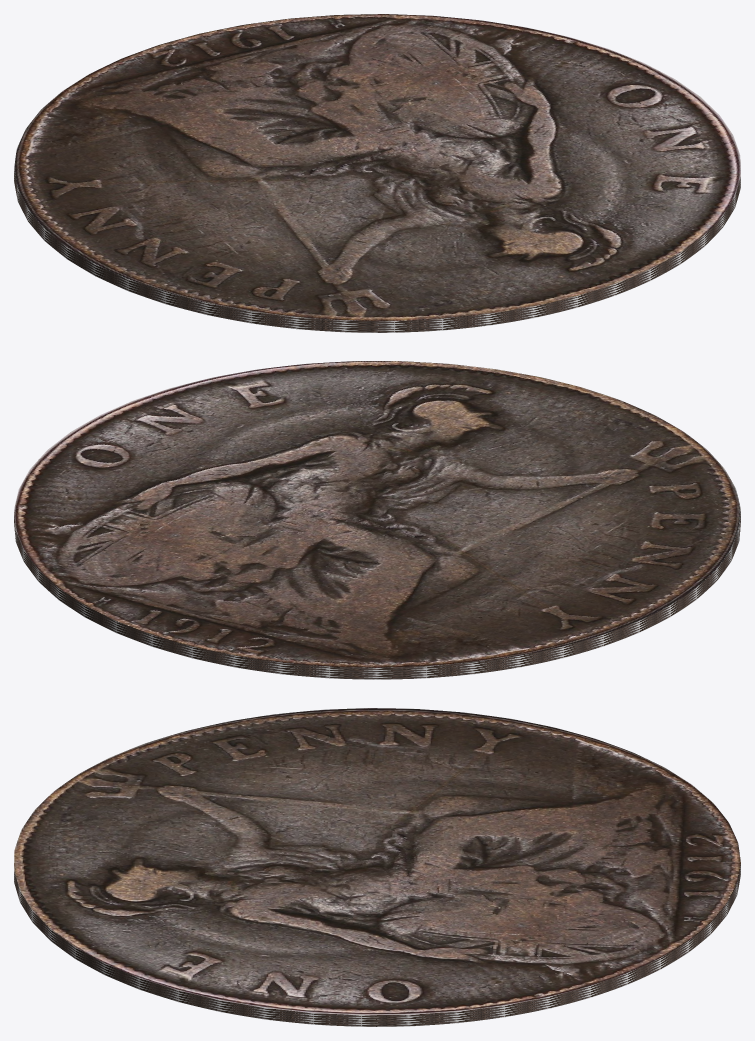
File: british_coin.fbx
The picture shows the model from 3 angles, top to bottom: view 1: azimuth 30°, elevation 25°; view 2: azimuth 150°, elevation 25°; view 3: azimuth 270°, elevation 25°; orthographic projection.
Parts seen in each view (by area): view 1: Cylinder001; view 2: Cylinder001; view 3: Cylinder001.
Part boxes in pixels (left/top/right/bottom): Cylinder001: left=14, top=14, right=740, bottom=332; Cylinder001: left=14, top=361, right=740, bottom=679; Cylinder001: left=14, top=708, right=740, bottom=1026.
Bounding box in the file's own units: 10.23 × 0.1813 × 10.23.
Materials: 1 (1 with a texture image).
